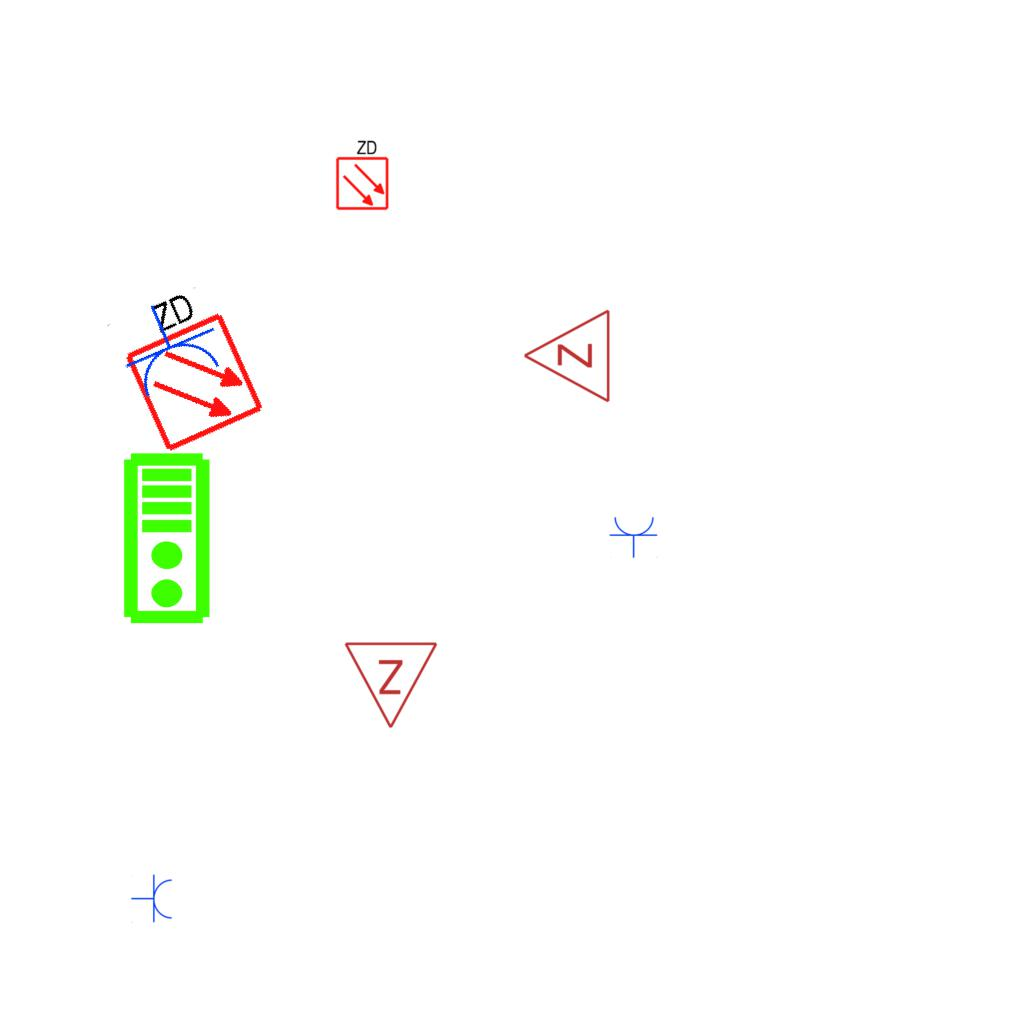Gegensprechanlage_mit_Video: (121, 451, 216, 627)
Schukosteckdose_einfach: (104, 285, 232, 406), (609, 515, 659, 558), (131, 874, 174, 924)
ZD_Melder_in_Zwischendecke_mit_Revisionsoeffnung_mind_40_x_40_cm: (102, 274, 268, 457), (333, 137, 390, 211)
Zimmersignalleuchte: (517, 308, 617, 406), (343, 635, 441, 735)
